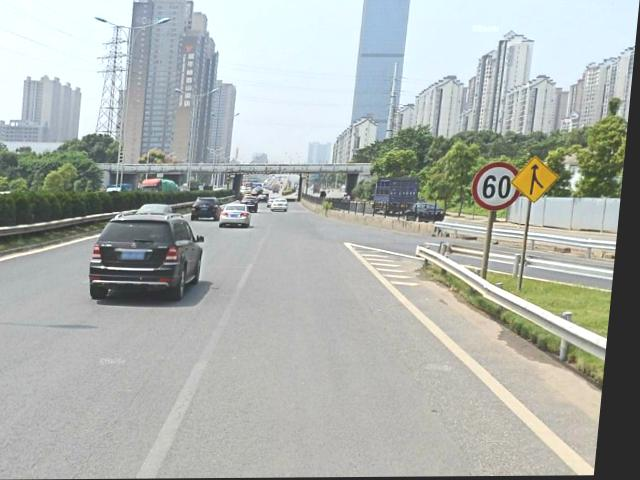limit60: (476, 163, 527, 209)
